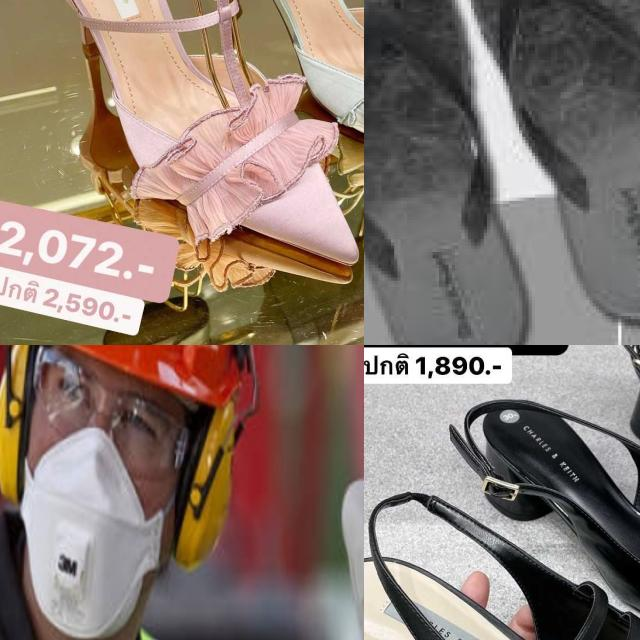Ear-protection: (0, 345, 240, 640)
Sandals: (4, 0, 364, 277), (364, 0, 640, 345), (424, 371, 640, 640), (364, 468, 640, 640), (182, 0, 364, 201)
glasses: (30, 346, 191, 480)
head_helmet: (9, 345, 281, 394)
person: (0, 345, 288, 640)
